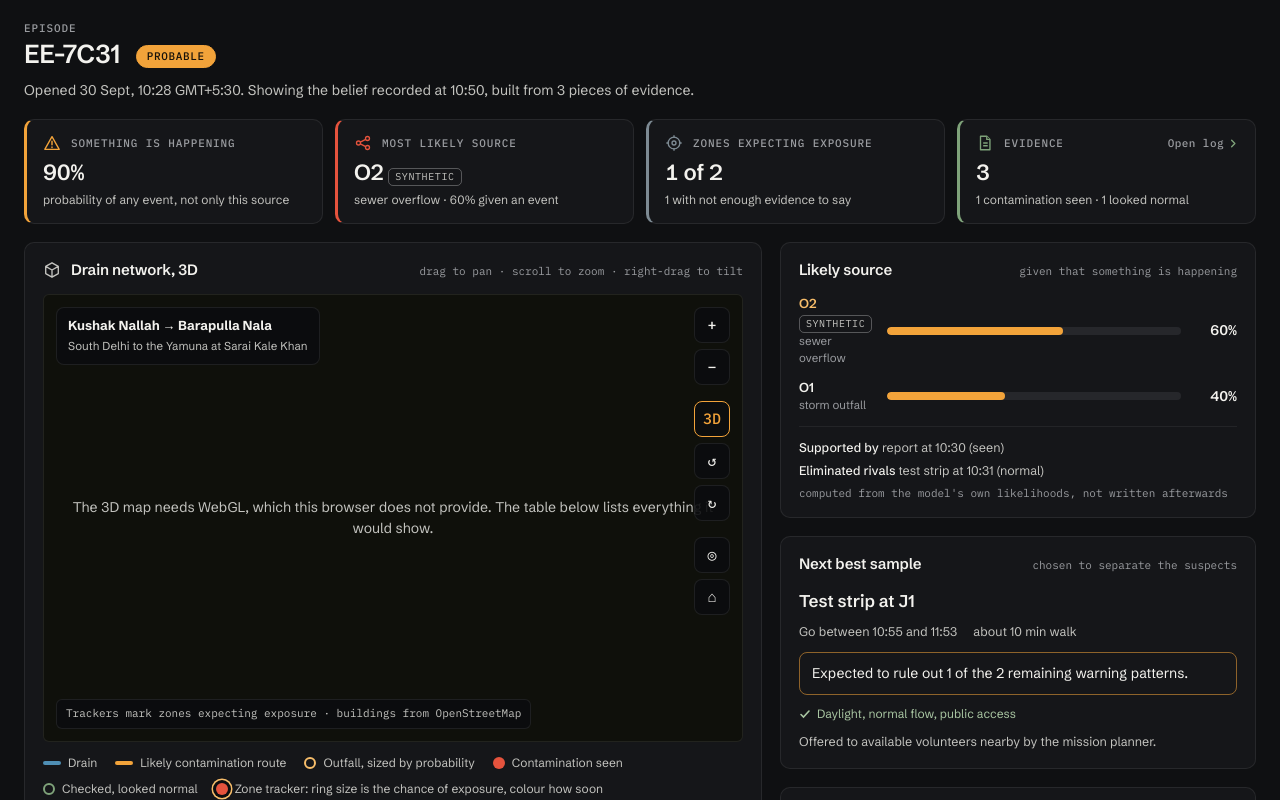
Console and belief replay (FR-36, FR-37) › closes the evidence log with Escape and returns focus to what opened it
Expected: the text "90%" is shown, left=43, top=159, right=84, bottom=186
Step 1. Click the button "Evidence Open log 3 1 contamination seen · 1 looked normal" → x=1034, y=143, box left=957, top=119, right=1256, bottom=224
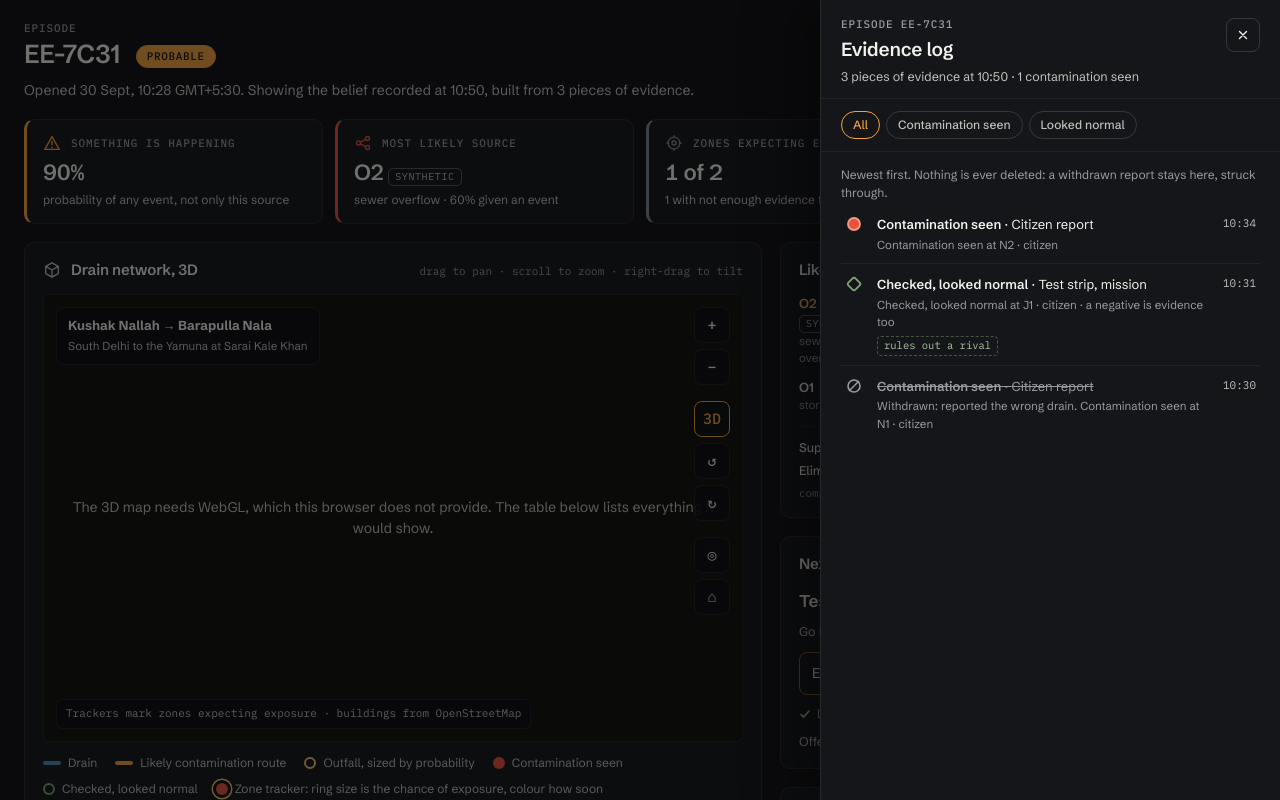
Step 2. Press Escape
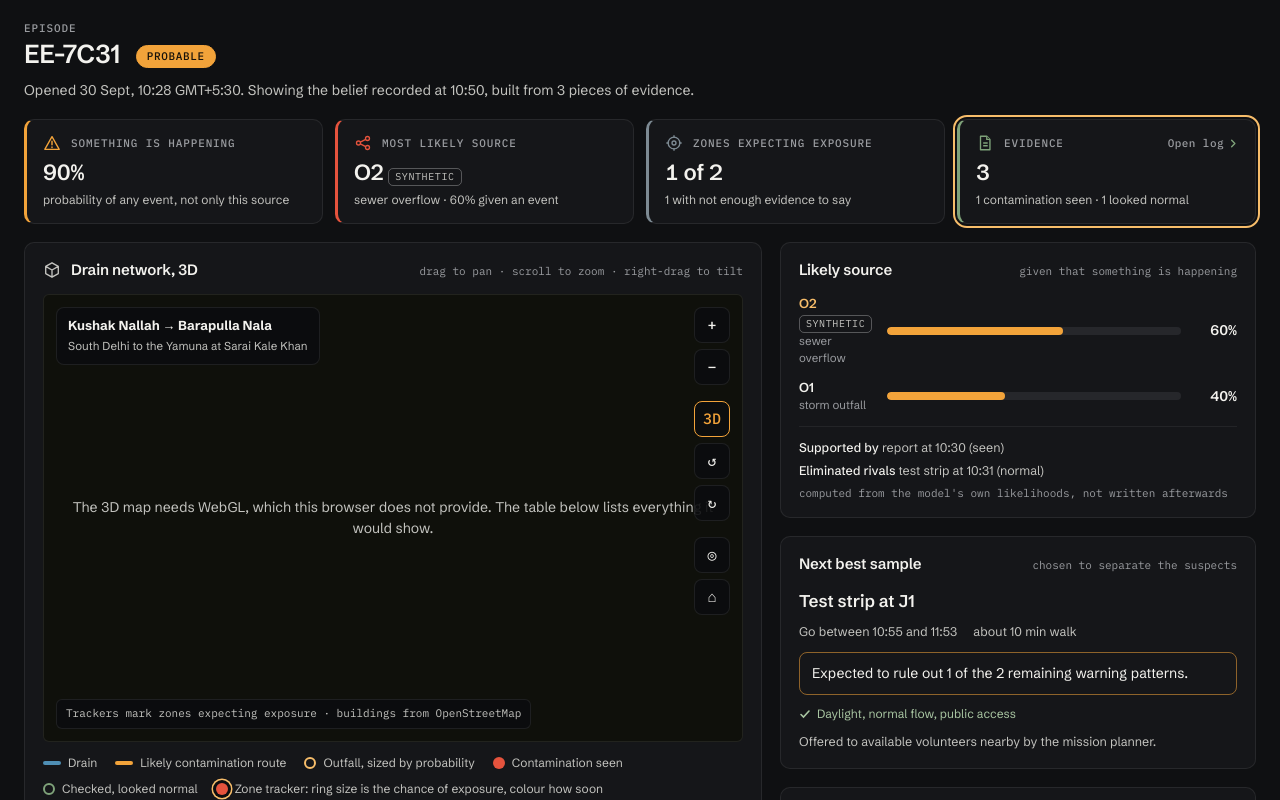
Now the dialog is gone
